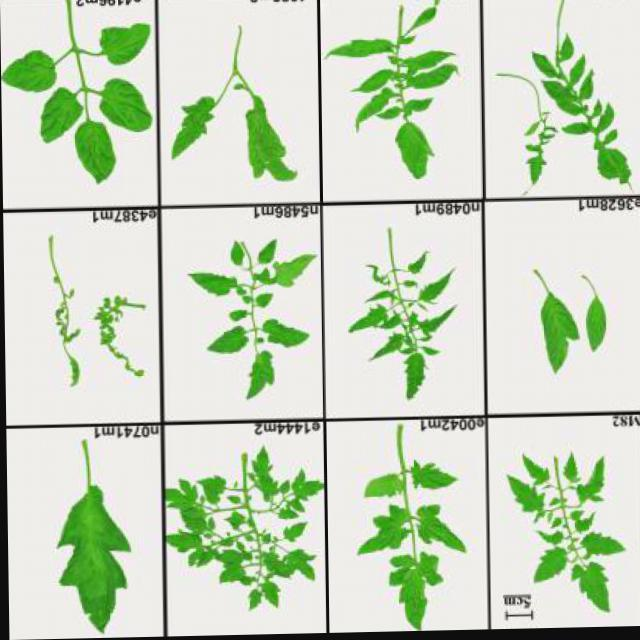Tomato bacterial spot leaf: (44, 482, 144, 634), (389, 552, 441, 632), (414, 503, 468, 557), (356, 512, 410, 562), (352, 466, 411, 501), (396, 354, 430, 408), (200, 325, 256, 357), (248, 346, 275, 411)
